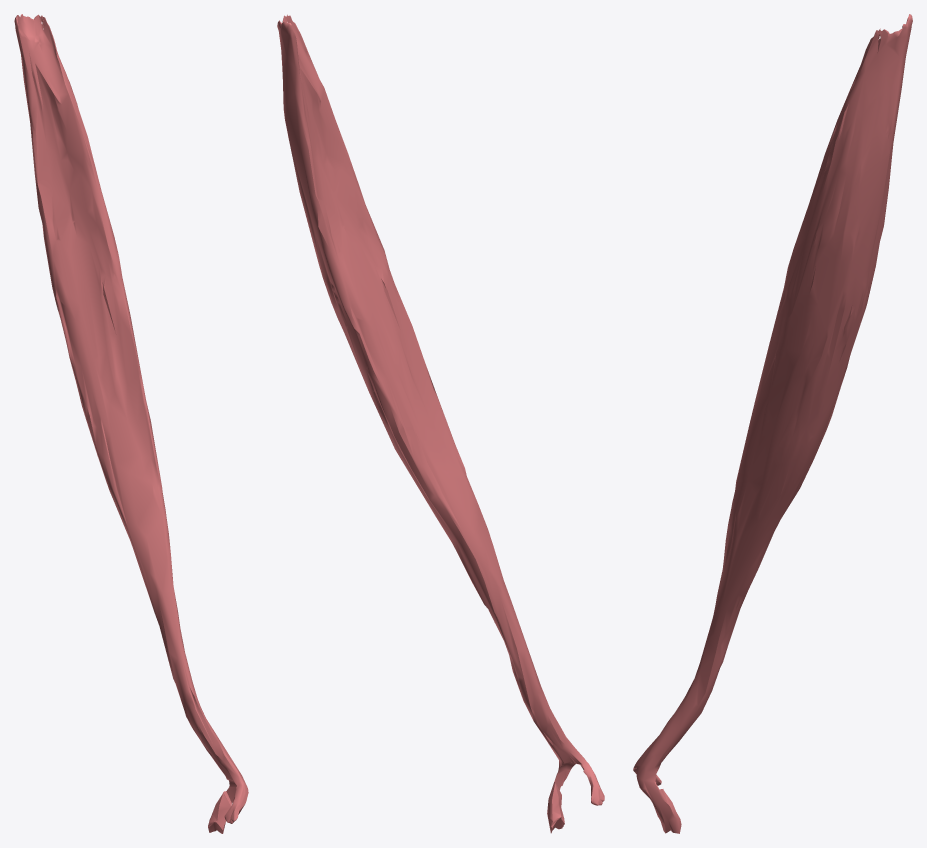
3 renders of one model, left to right at view 1: azimuth 90°, elevation 25°; view 2: azimuth 150°, elevation 25°; view 3: azimuth 270°, elevation 25°, orthographic. The views are drawn at different scales.
Visible parts, largest first — view 1: FJ1473; view 2: FJ1473; view 3: FJ1473.
Part boxes in pixels (x1,y1,x2,y2): FJ1473: [14, 14, 248, 833]; FJ1473: [277, 14, 604, 833]; FJ1473: [633, 14, 912, 833].
Bounding box in the file's own units: 0.0683 × 0.2654 × 0.075.
